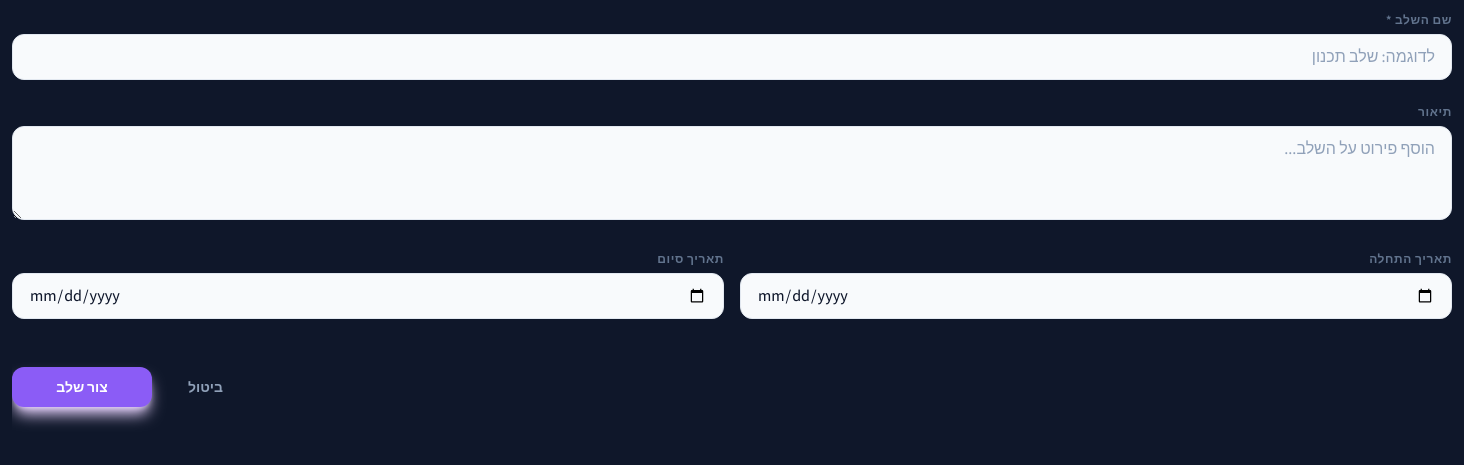
it: PhaseForm › validation › clears error when field is corrected
The width and height of the screenshot is (1464, 465).
Trigger error
Step 1. Click the button "צור שלב" → (82, 387), box top-left (12, 367), bottom-right (152, 407)
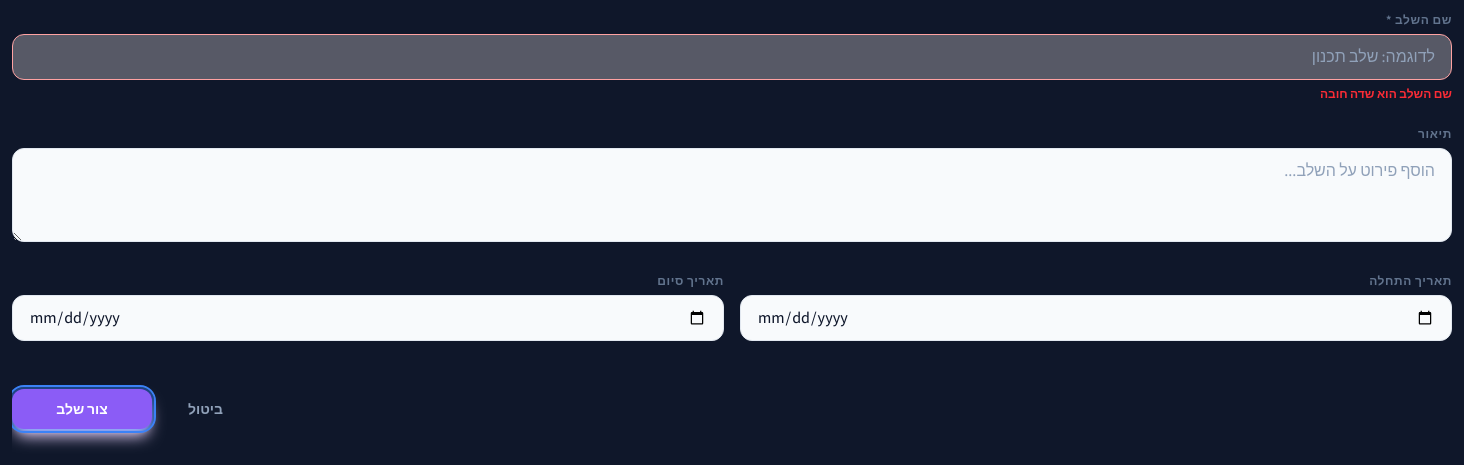
Check: the text "שם השלב הוא שדה חובה" is shown, box top-left (1320, 86), bottom-right (1452, 101)
Fix error
Step 2. Type "שלב חדש" into the field labelled "שם השלב *" → (732, 57), box top-left (12, 34), bottom-right (1452, 80)
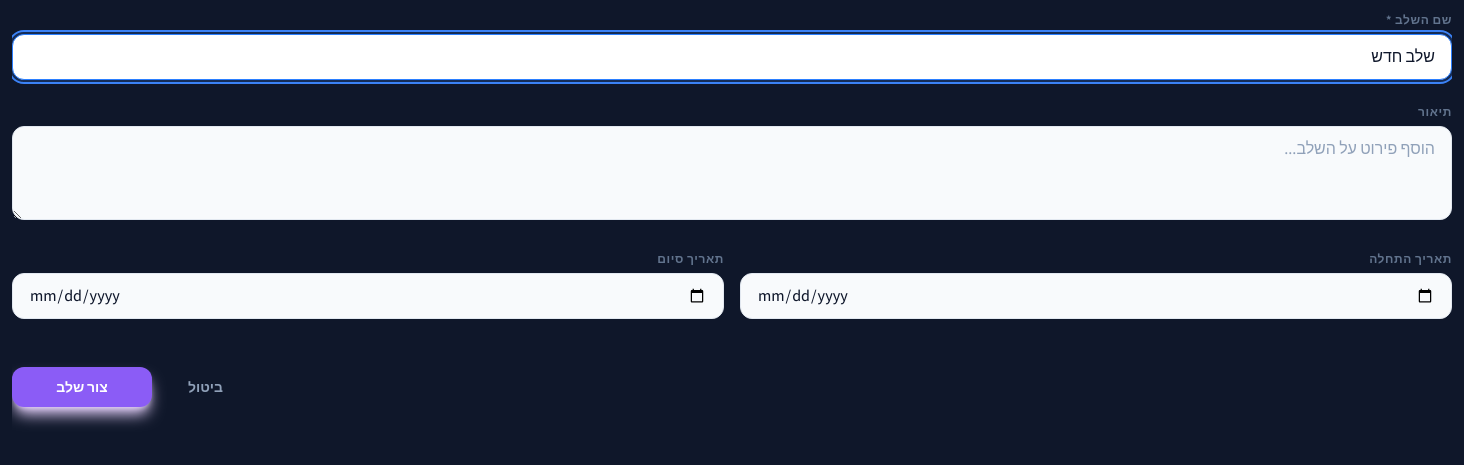
Check: the text "שם השלב הוא שדה חובה" is gone
